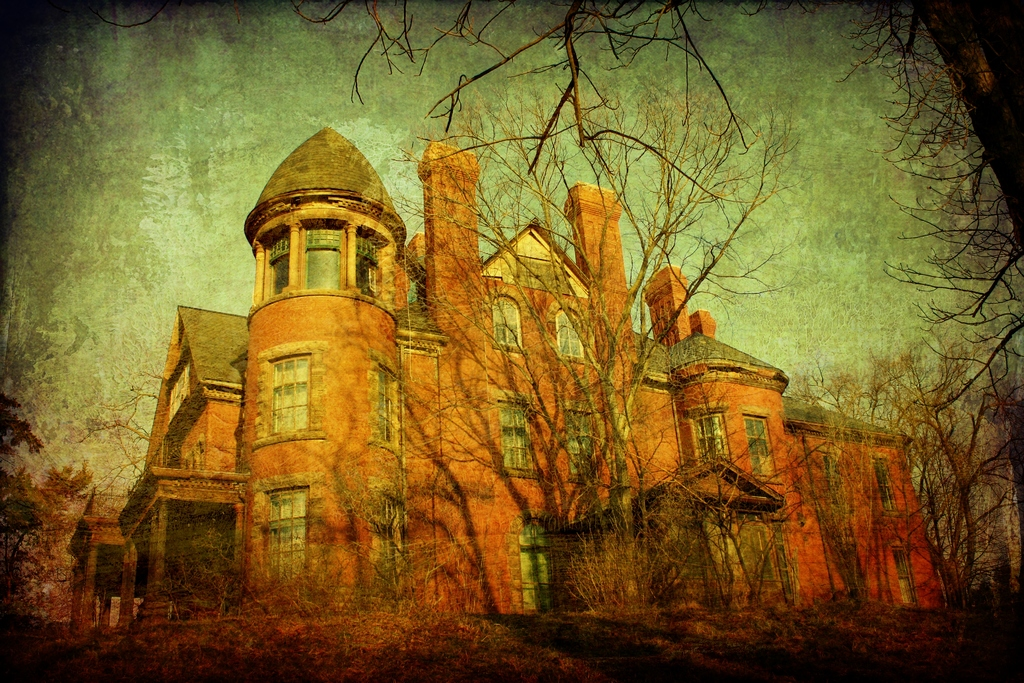Tree: (0, 0, 1020, 681)
